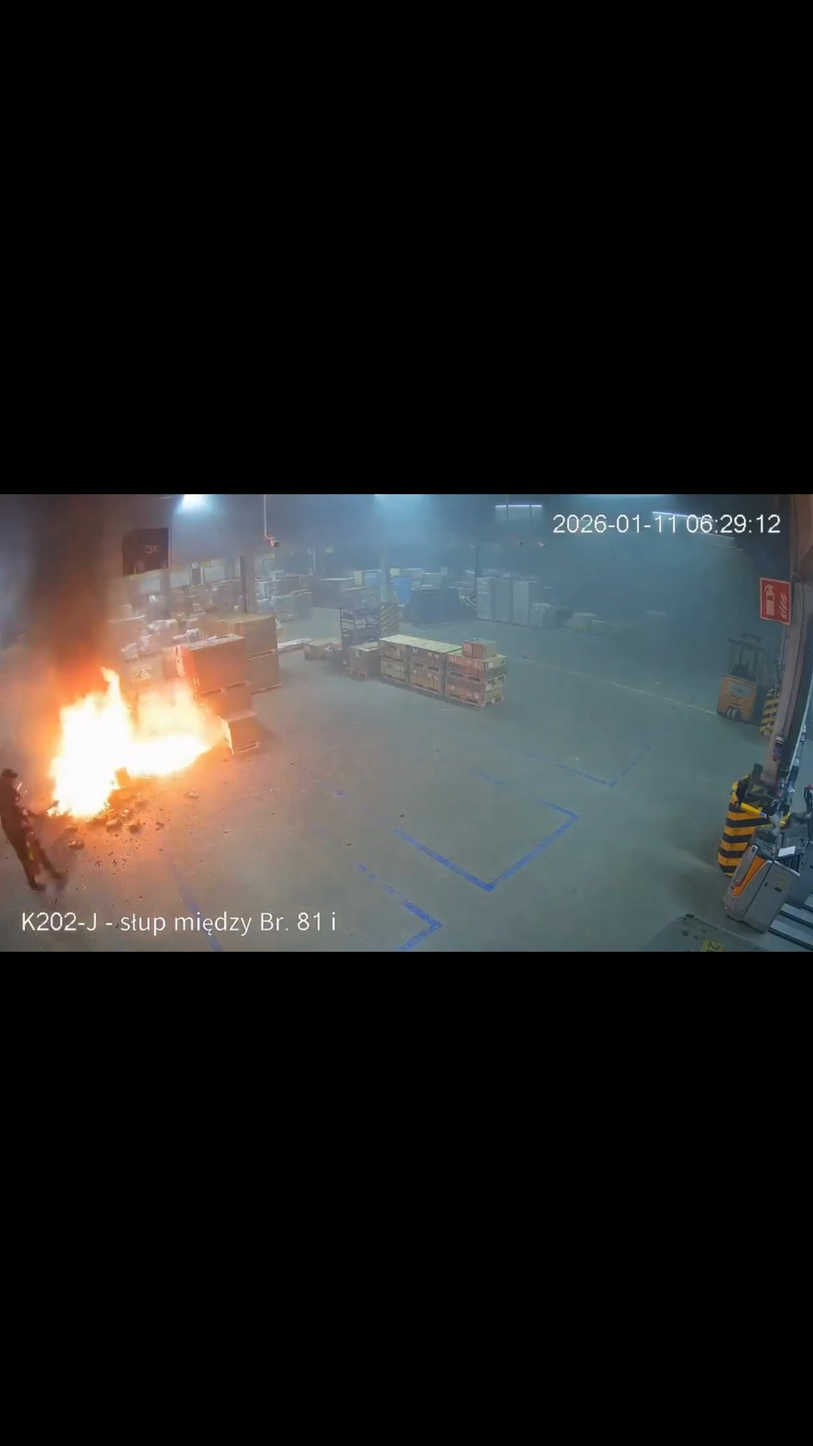fire: (46, 663, 217, 824)
smoke: (1, 495, 218, 704)
